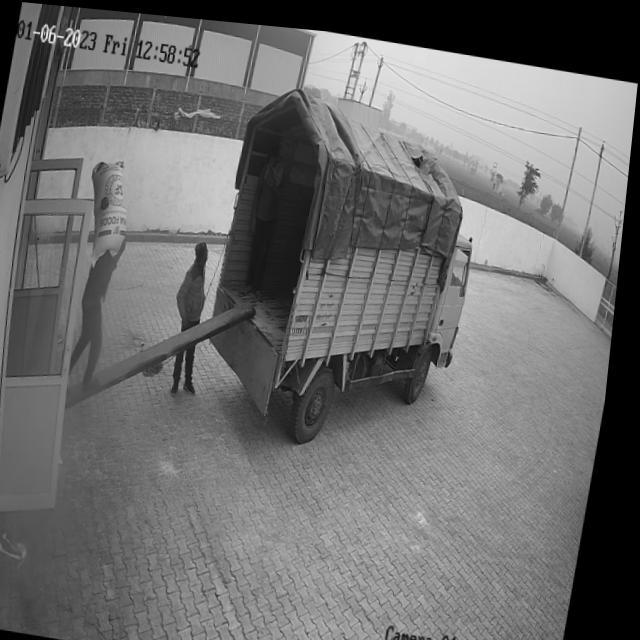sack: (81, 151, 140, 265)
